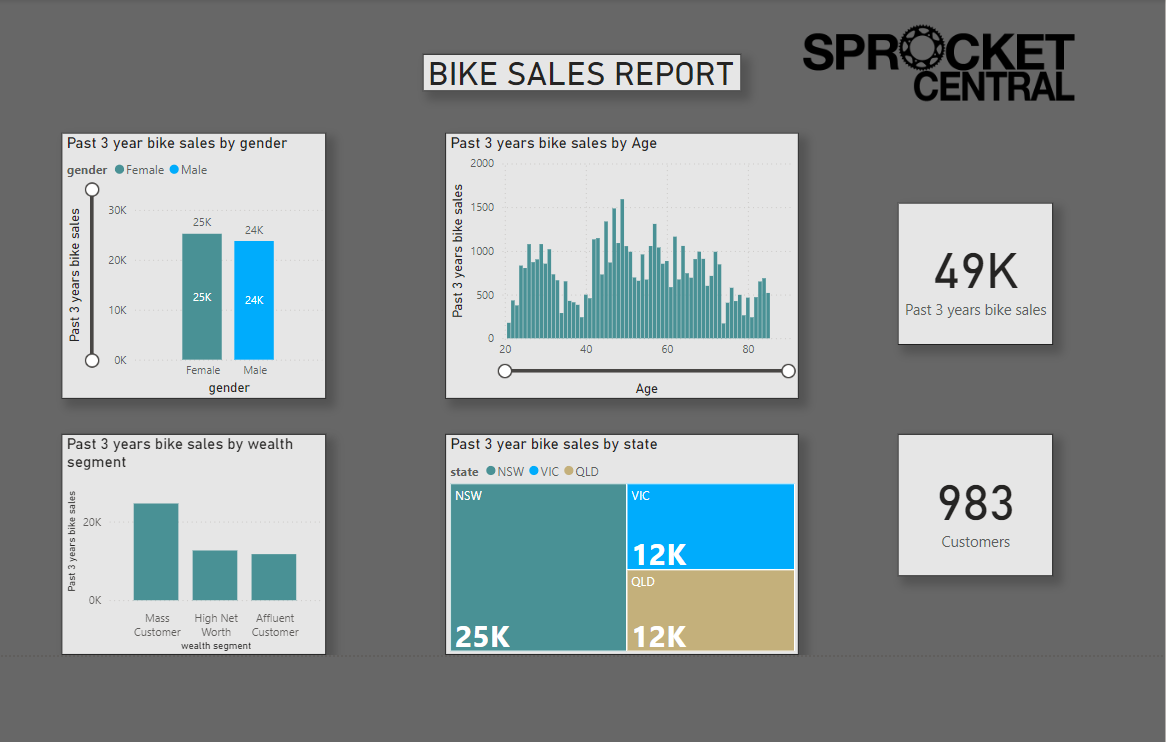

The page's visual inventory and layout, read from the dashboard file:
{"tool":"powerbi","page":{"name":"Bike Sales","canvas":[1280,720],"ordinal":0},"visuals":[{"type":"image","box":[877.5,8.2,318.1,144],"z":0},{"type":"columnChart","title":"Past 3 year bike sales by gender","fields":{"Category":["NewCustomerList.gender"],"Y":["Sum(NewCustomerList.past_3_years_bike_related_purchases)"],"Series":["NewCustomerList.gender"]},"box":[68.6,146.7,290.7,292],"z":1000},{"type":"columnChart","fields":{"Y":["Sum(NewCustomerList.past_3_years_bike_related_purchases)"],"Category":["NewCustomerList.Age"]},"box":[489.5,146.7,388,292],"z":2000},{"type":"card","fields":{"Values":["Sum(NewCustomerList.past_3_years_bike_related_purchases)"]},"box":[987.2,223.5,170,156.3],"z":3000},{"type":"columnChart","fields":{"Category":["NewCustomerList.wealth_segment"],"Y":["Sum(NewCustomerList.past_3_years_bike_related_purchases)"]},"box":[68.6,477.1,290.7,242.7],"z":4000},{"type":"treemap","fields":{"Group":["NewCustomerList.state"],"Values":["Sum(NewCustomerList.past_3_years_bike_related_purchases)"]},"box":[489.5,477.1,388,242.7],"z":5000},{"type":"card","fields":{"Values":["CountNonNull(NewCustomerList.Age)"]},"box":[987.2,477.1,170,156.3],"z":6000},{"type":"textbox","title":"BIKE SALES REPORT","box":[464.8,60.3,349.6,41.1],"z":7000}]}

Visuals, with their boxes on the page's 1280x720 design canvas (x1, y1, x2, y2). These are canvas units, not pixel positions in the 1166x742 screenshot, which may show the page scaled, cropped or inside an application window:
image: crop(878, 8, 1196, 152)
"Past 3 year bike sales by gender" columnChart: crop(69, 147, 359, 439)
columnChart - Sum(NewCustomerList.past_3_years_bike_related_purchases) x NewCustomerList.Age: crop(490, 147, 878, 439)
card - Sum(NewCustomerList.past_3_years_bike_related_purchases): crop(987, 224, 1157, 380)
columnChart - NewCustomerList.wealth_segment x Sum(NewCustomerList.past_3_years_bike_related_purchases): crop(69, 477, 359, 720)
treemap - NewCustomerList.state x Sum(NewCustomerList.past_3_years_bike_related_purchases): crop(490, 477, 878, 720)
card - CountNonNull(NewCustomerList.Age): crop(987, 477, 1157, 633)
"BIKE SALES REPORT" textbox: crop(465, 60, 814, 101)
